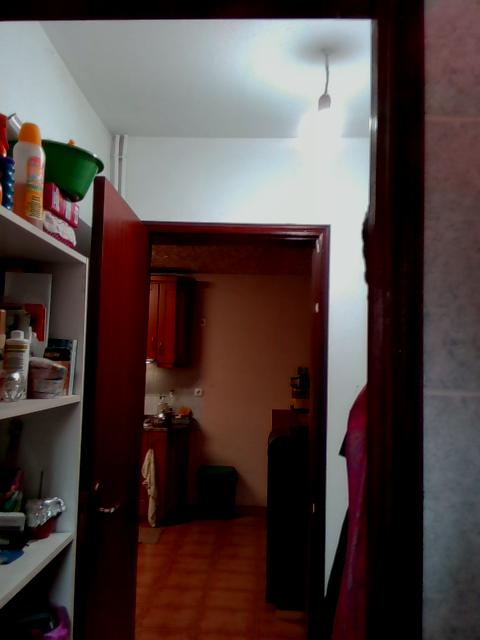open_door: (81, 217, 331, 639)
